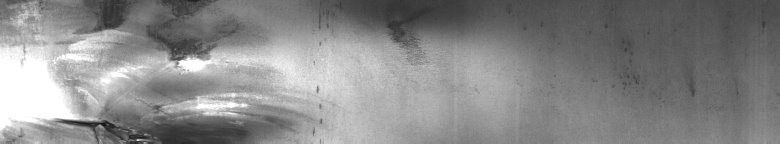ke: (55, 20, 247, 136)
